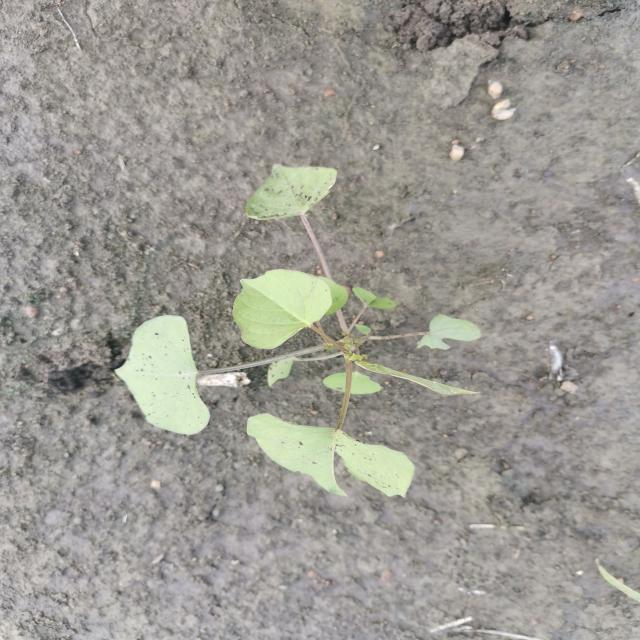MorningGlory: (112, 162, 486, 503)
